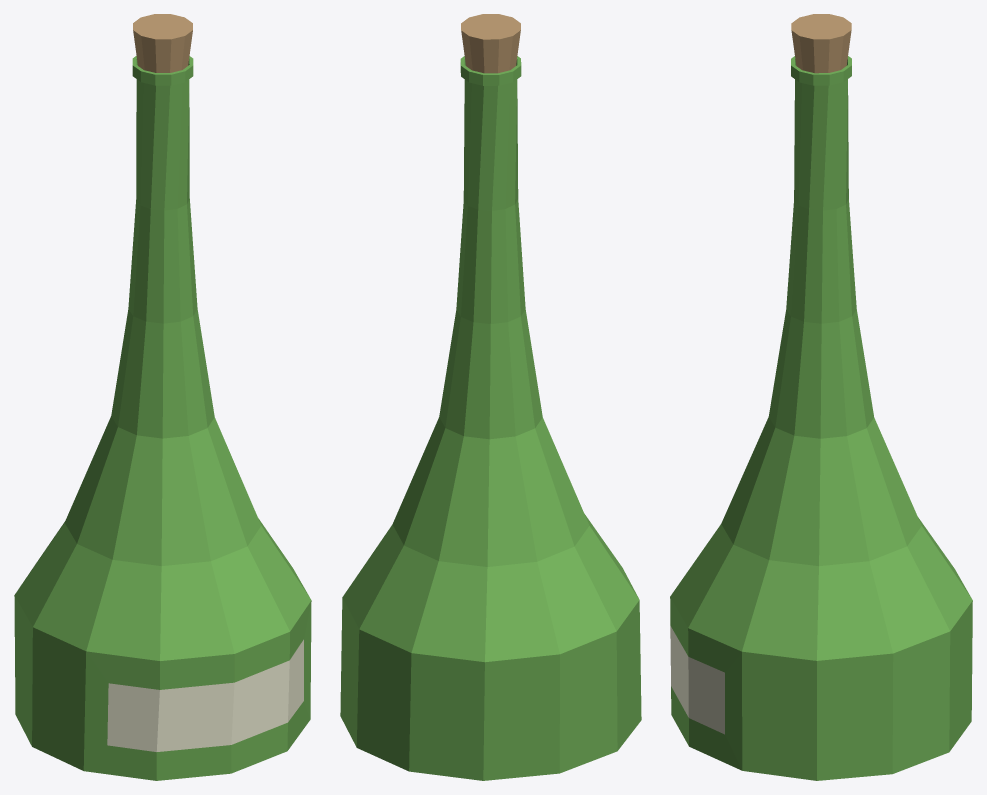
File: potion_green_3.fbx
3 views of the same model, side by side, from view 1: azimuth 30°, elevation 25°; view 2: azimuth 150°, elevation 25°; view 3: azimuth 270°, elevation 25° (orthographic).
Parts seen in each view (by area): view 1: potion_green_3; view 2: potion_green_3; view 3: potion_green_3.
Part boxes in pixels (<box>): potion_green_3: <box>14,14,311,780</box>; potion_green_3: <box>340,14,641,780</box>; potion_green_3: <box>670,14,972,780</box>.
Size of the model in its own units: 19.87 by 50.96 by 20.22.
